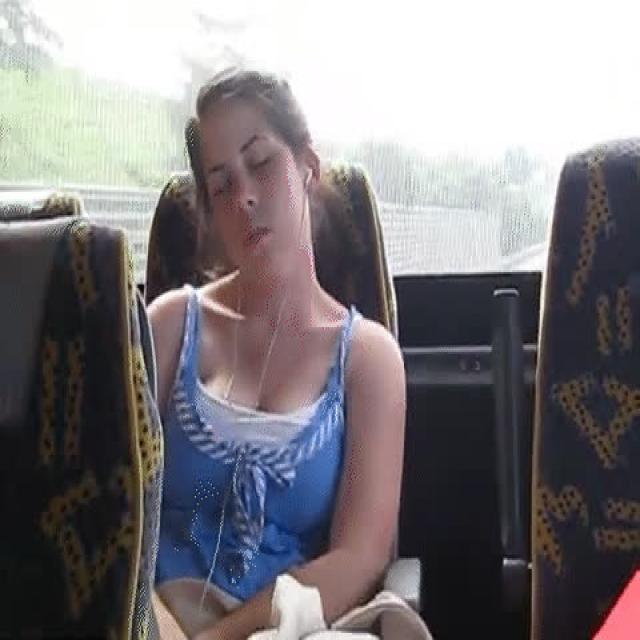no-seatbelt: (187, 67, 325, 286)
